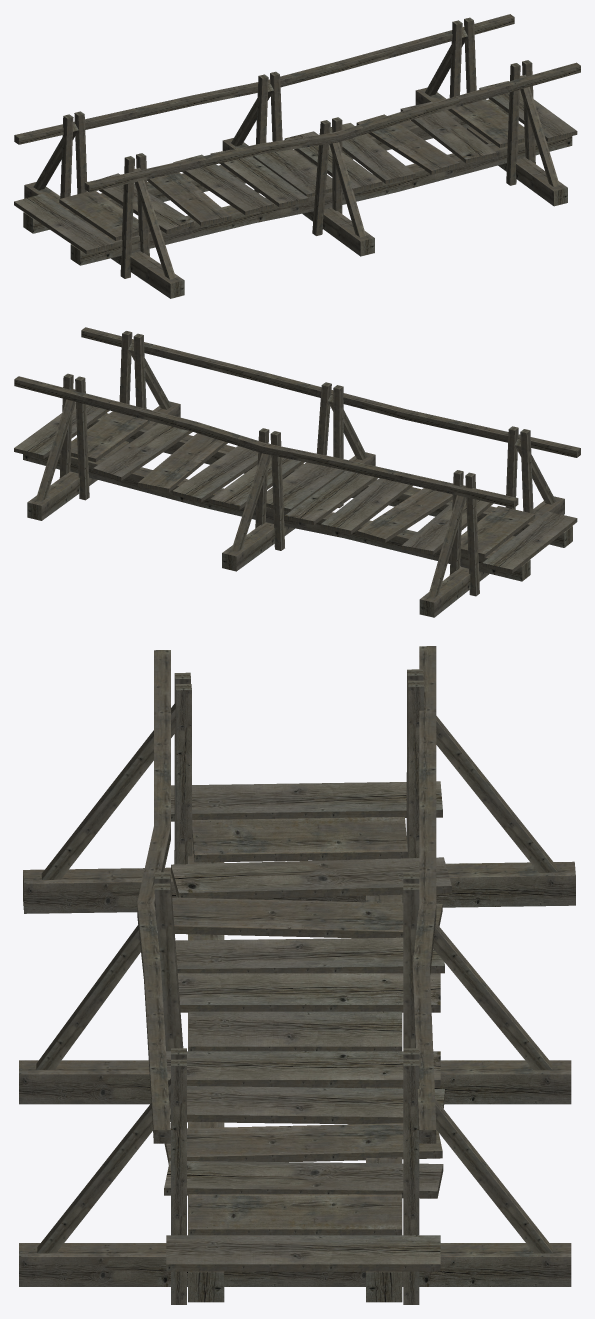
The model's file is bridge_wood_01.fbx.
3 views of the same model, one above another, from view 1: azimuth 30°, elevation 25°; view 2: azimuth 150°, elevation 25°; view 3: azimuth 270°, elevation 25° (orthographic). The views are drawn at different scales.
Visible parts, largest first — view 1: Mesh Object; view 2: Mesh Object; view 3: Mesh Object.
Boxes of the visible parts, bbox=[...] form: Mesh Object: bbox=[14, 14, 580, 298]; Mesh Object: bbox=[14, 327, 580, 617]; Mesh Object: bbox=[19, 646, 575, 1304].
Bounding box in the file's own units: 6.93 × 1.61 × 3.37.
